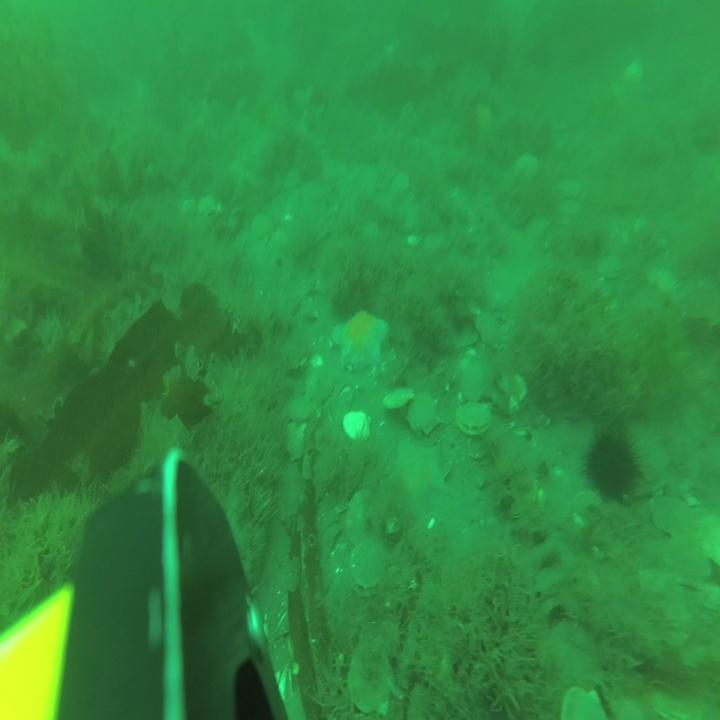echinus: (582, 415, 648, 509)
scallop: (346, 637, 397, 720), (347, 533, 388, 600), (652, 487, 700, 540), (560, 677, 611, 720), (344, 484, 376, 548), (460, 352, 498, 403), (407, 390, 442, 437), (454, 398, 494, 437), (306, 362, 335, 407), (474, 308, 503, 351), (284, 419, 312, 463), (342, 407, 374, 444), (382, 384, 417, 412), (595, 250, 627, 280), (251, 209, 278, 244), (288, 394, 315, 425), (556, 172, 583, 202), (392, 167, 413, 198), (195, 191, 218, 219)
starfish: (392, 434, 454, 520), (330, 309, 390, 375)
